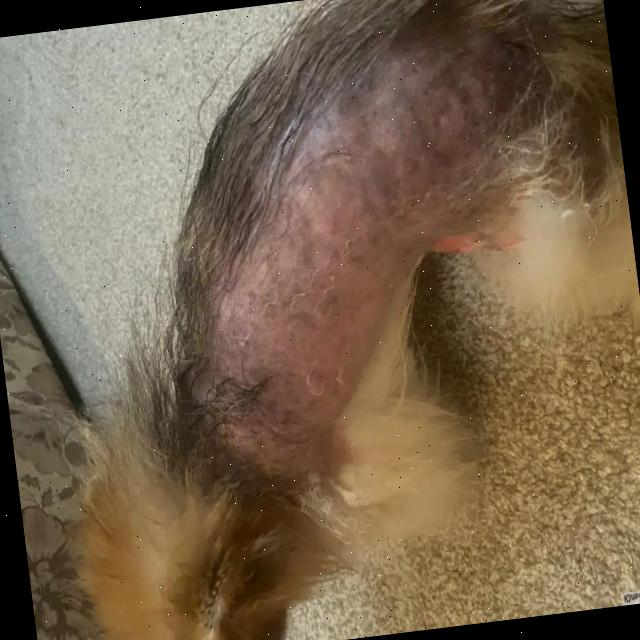cat-hairloss: (205, 175, 382, 451), (356, 66, 540, 242)
